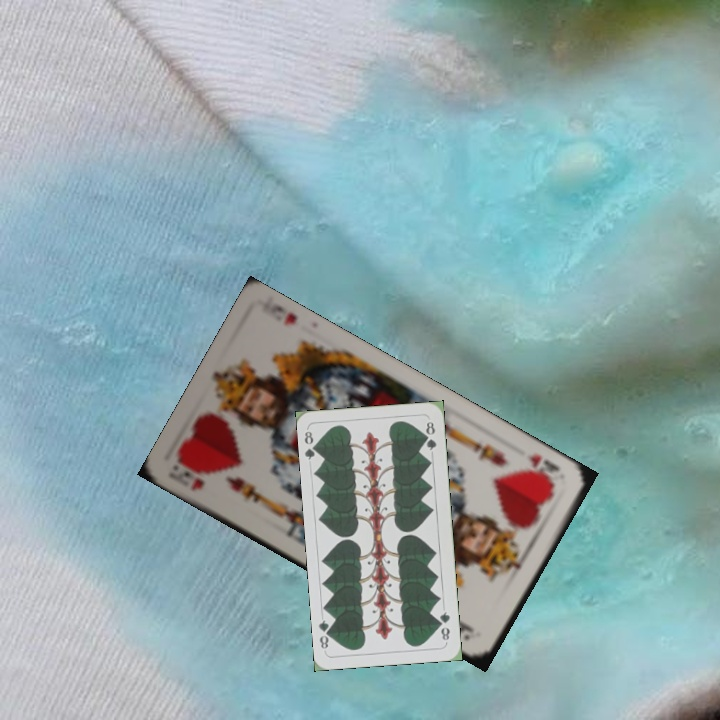G8: (300, 425, 321, 462), (435, 607, 453, 643)
HK: (522, 450, 563, 487), (172, 466, 207, 494)
